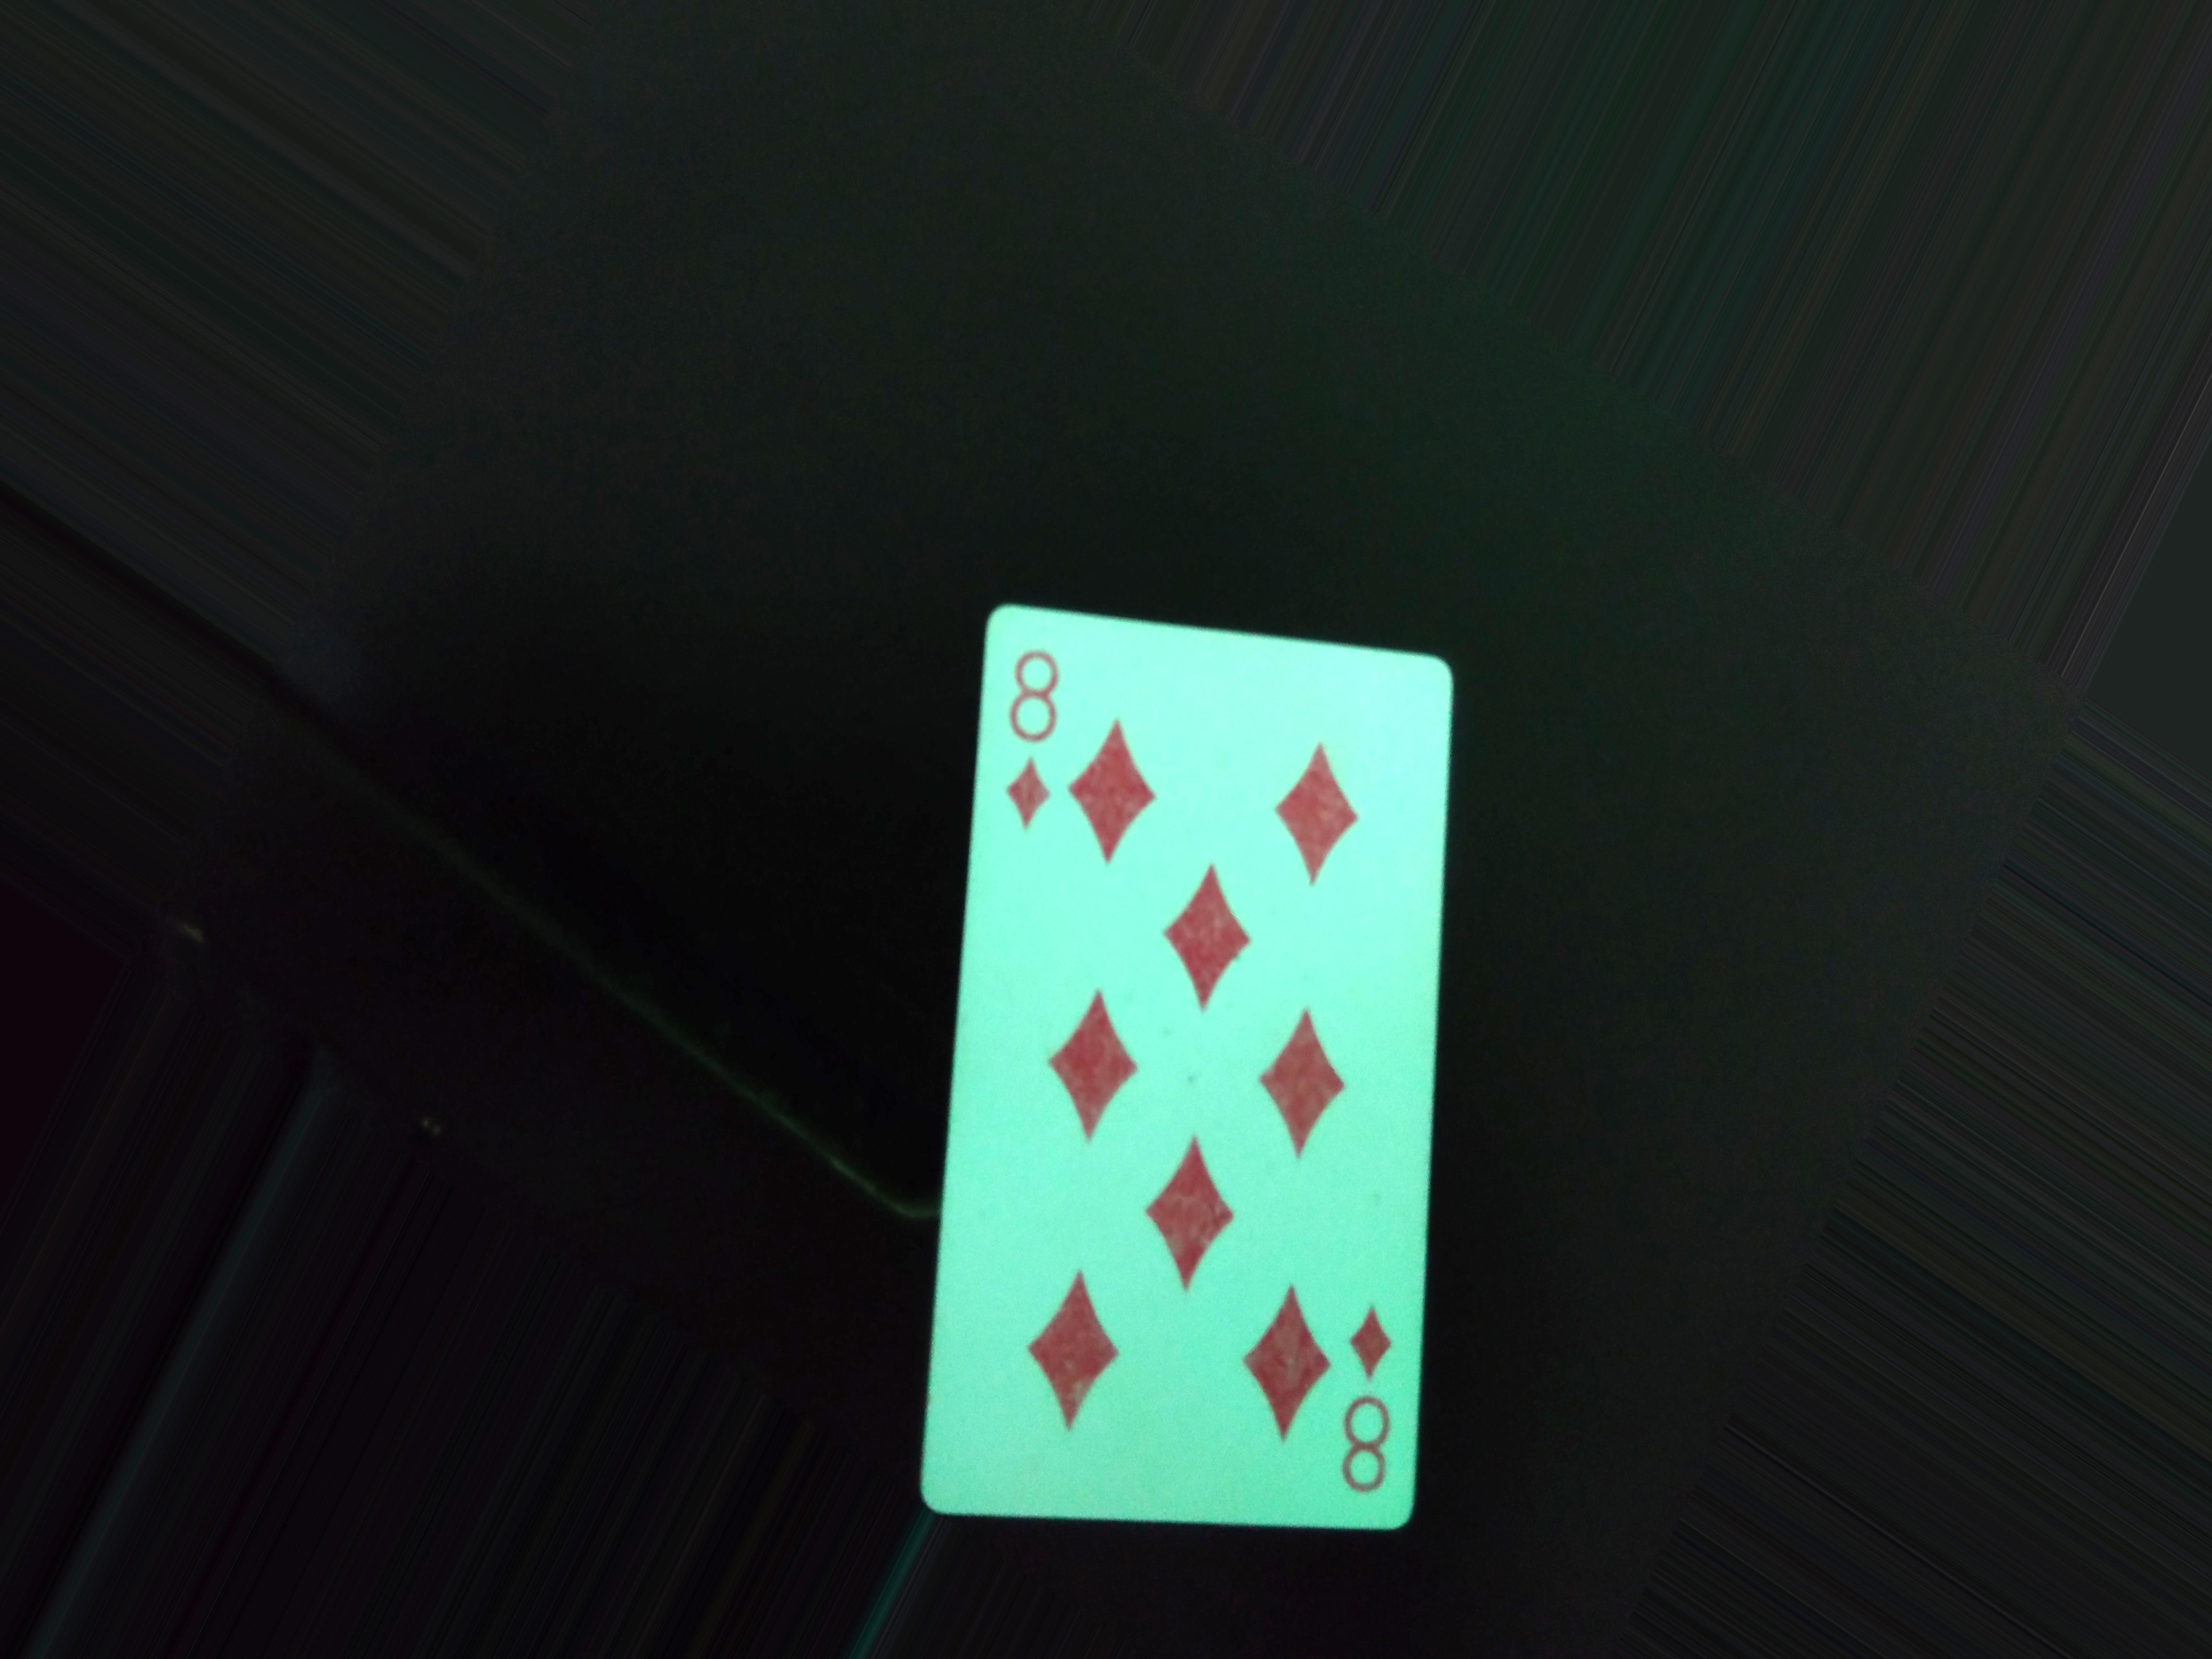8D: (1327, 1288, 1402, 1513)
